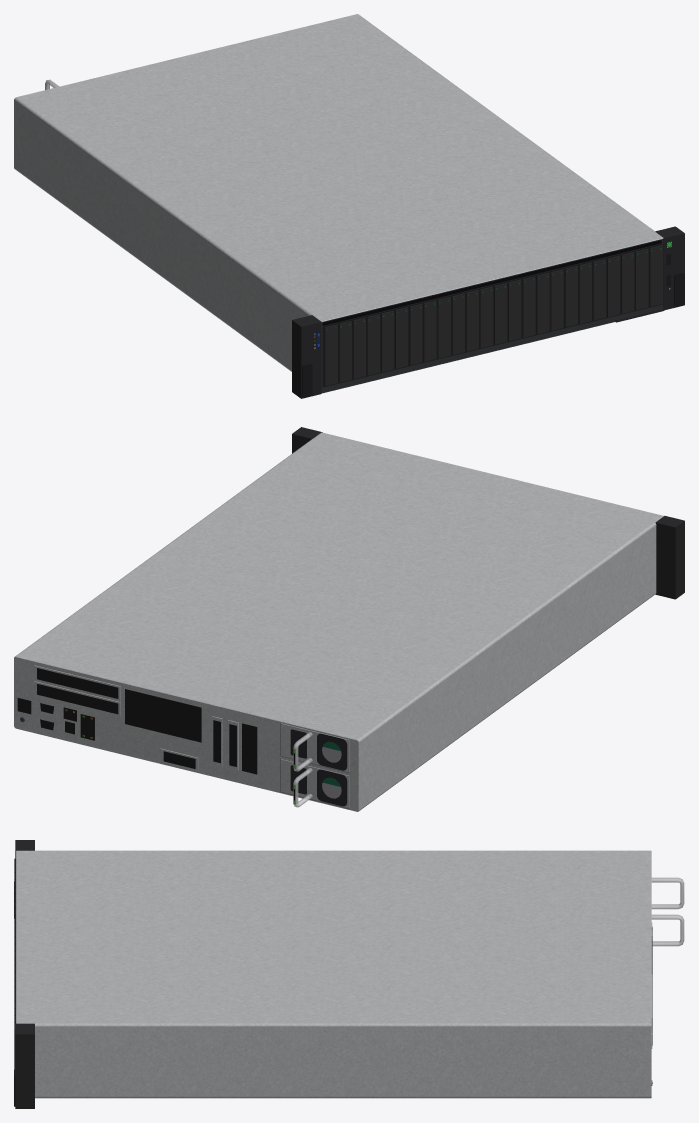
File: R7515.far.glb
3 views of the same model, one above another, from view 1: azimuth 30°, elevation 25°; view 2: azimuth 150°, elevation 25°; view 3: azimuth 270°, elevation 25° (orthographic). The views are drawn at different scales.
Visible parts, largest first — view 1: Shell_far; view 2: Shell_far; view 3: Shell_far.
Boxes of the visible parts, x1=… form: Shell_far: x1=14, y1=14, x2=684, y2=398; Shell_far: x1=14, y1=427, x2=684, y2=811; Shell_far: x1=14, y1=840, x2=684, y2=1108.
Size of the model in its own units: 0.482 by 0.0868 by 0.7042.
Materials: 4 (2 with a texture image).
